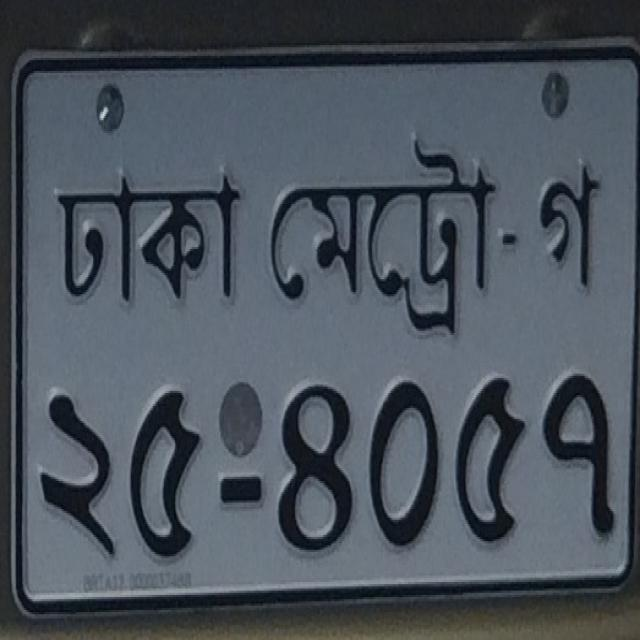numberplate: (7, 35, 637, 618)
